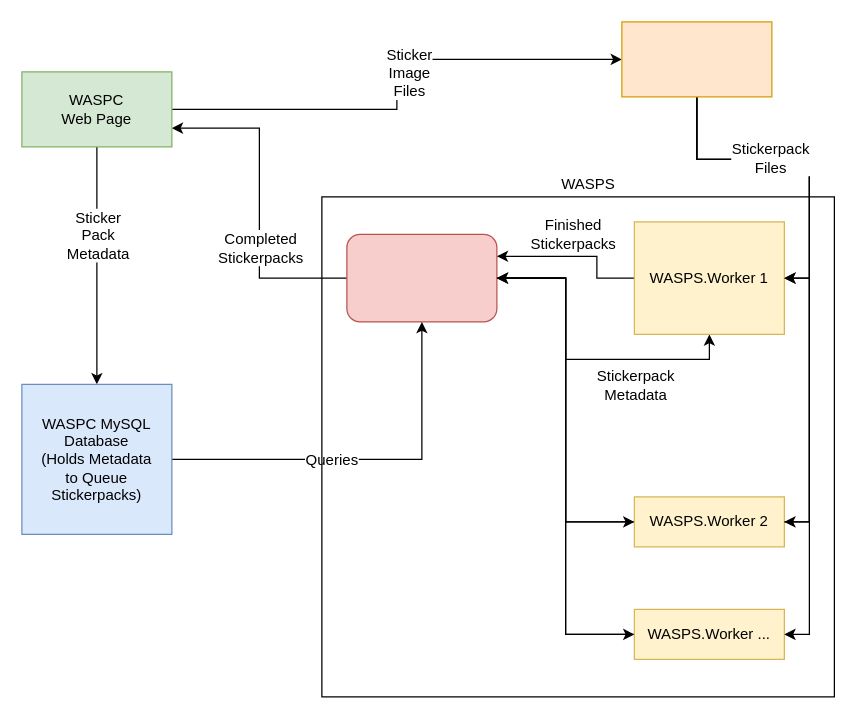
Image size: 856x719. Some labels were removed from this diagram. The shapes that lost their labels are listed below. From the top down, each one's box as (x1, y1, x2, y2) in pixels, then its label:
(621, 21, 772, 97): File Directory
(346, 233, 497, 322): WASPS.Main Thread
